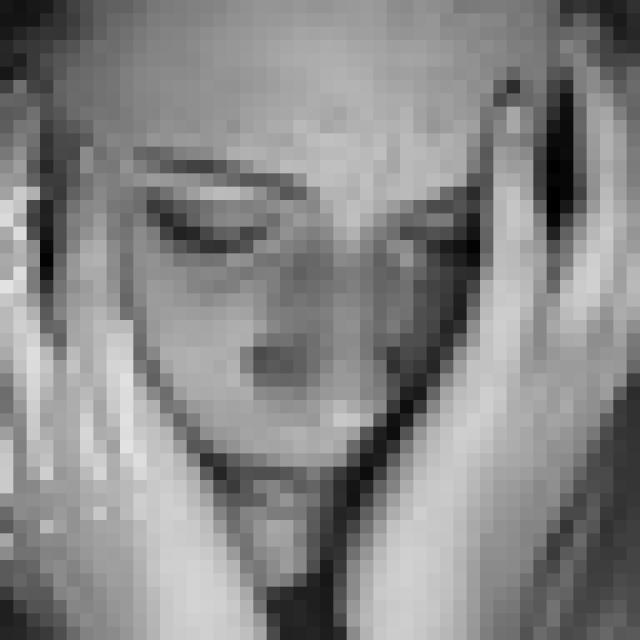sad: (116, 120, 494, 541)
